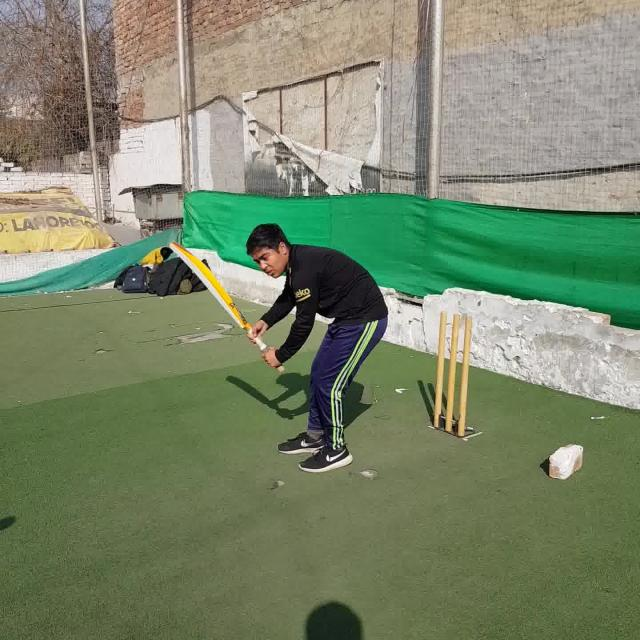bat: (169, 242, 286, 372)
